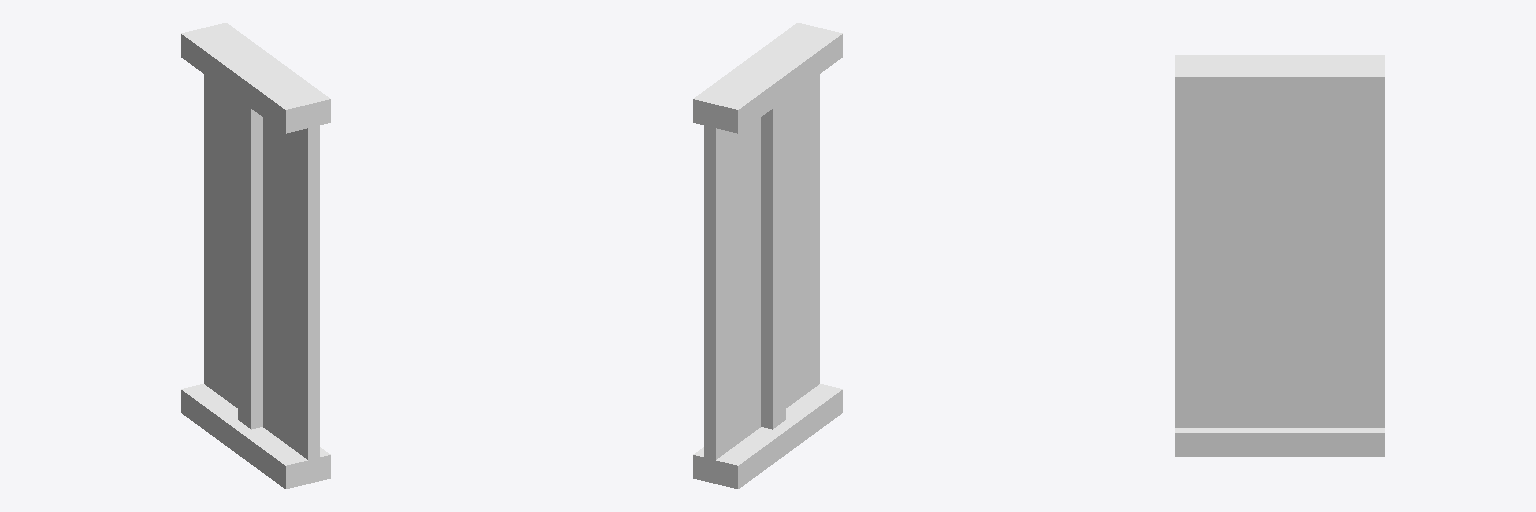
File: rollup.obj
3 views of the same model, side by side, from view 1: azimuth 30°, elevation 25°; view 2: azimuth 150°, elevation 25°; view 3: azimuth 270°, elevation 25° (orthographic).
Size of the model in its own units: 0.2 by 1.6 by 0.8.